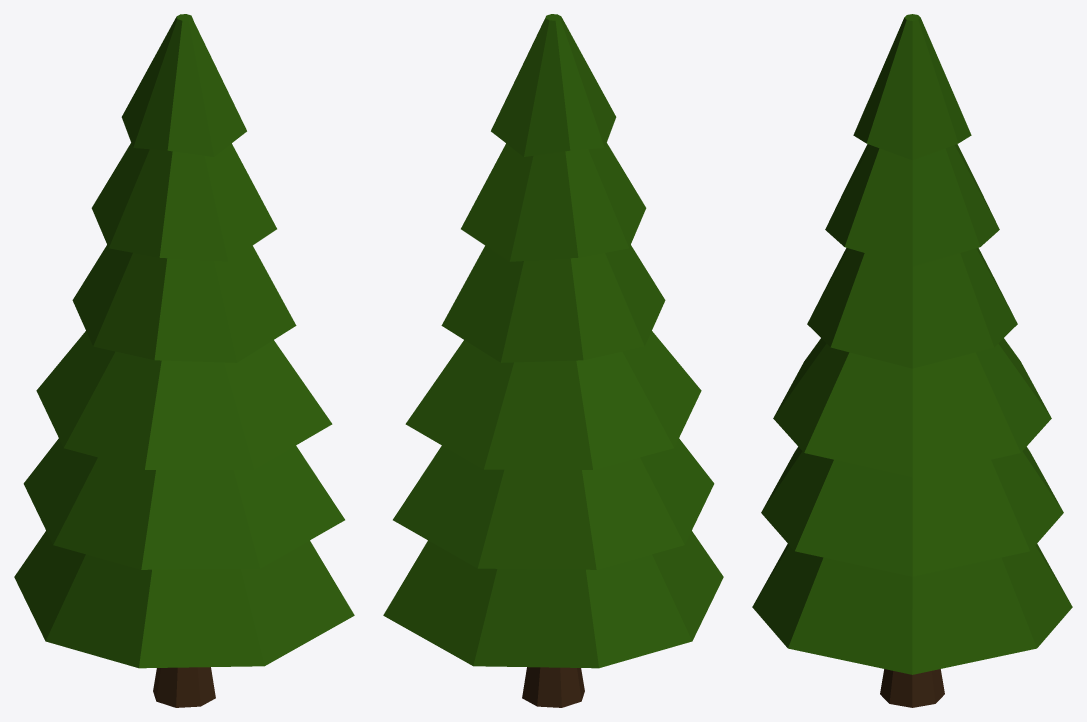
The model's file is pine.fbx.
3 views of the same model, side by side, from view 1: azimuth 30°, elevation 25°; view 2: azimuth 150°, elevation 25°; view 3: azimuth 270°, elevation 25° (orthographic).
Parts seen in each view (by area): view 1: Cylinder; view 2: Cylinder; view 3: Cylinder.
Part boxes in pixels (bbox=[...]): Cylinder: bbox=[14, 14, 354, 707]; Cylinder: bbox=[383, 14, 723, 707]; Cylinder: bbox=[752, 14, 1072, 707].
Bounding box in the file's own units: 307 × 716 × 307.
